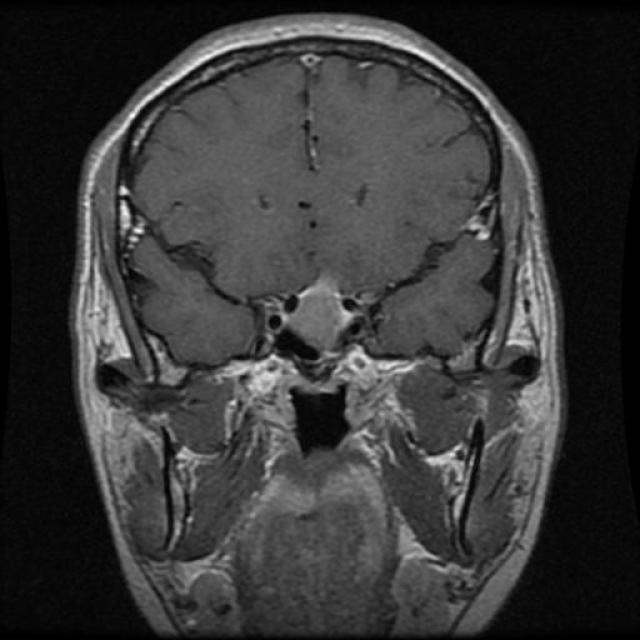pituitary: (274, 255, 378, 362)
